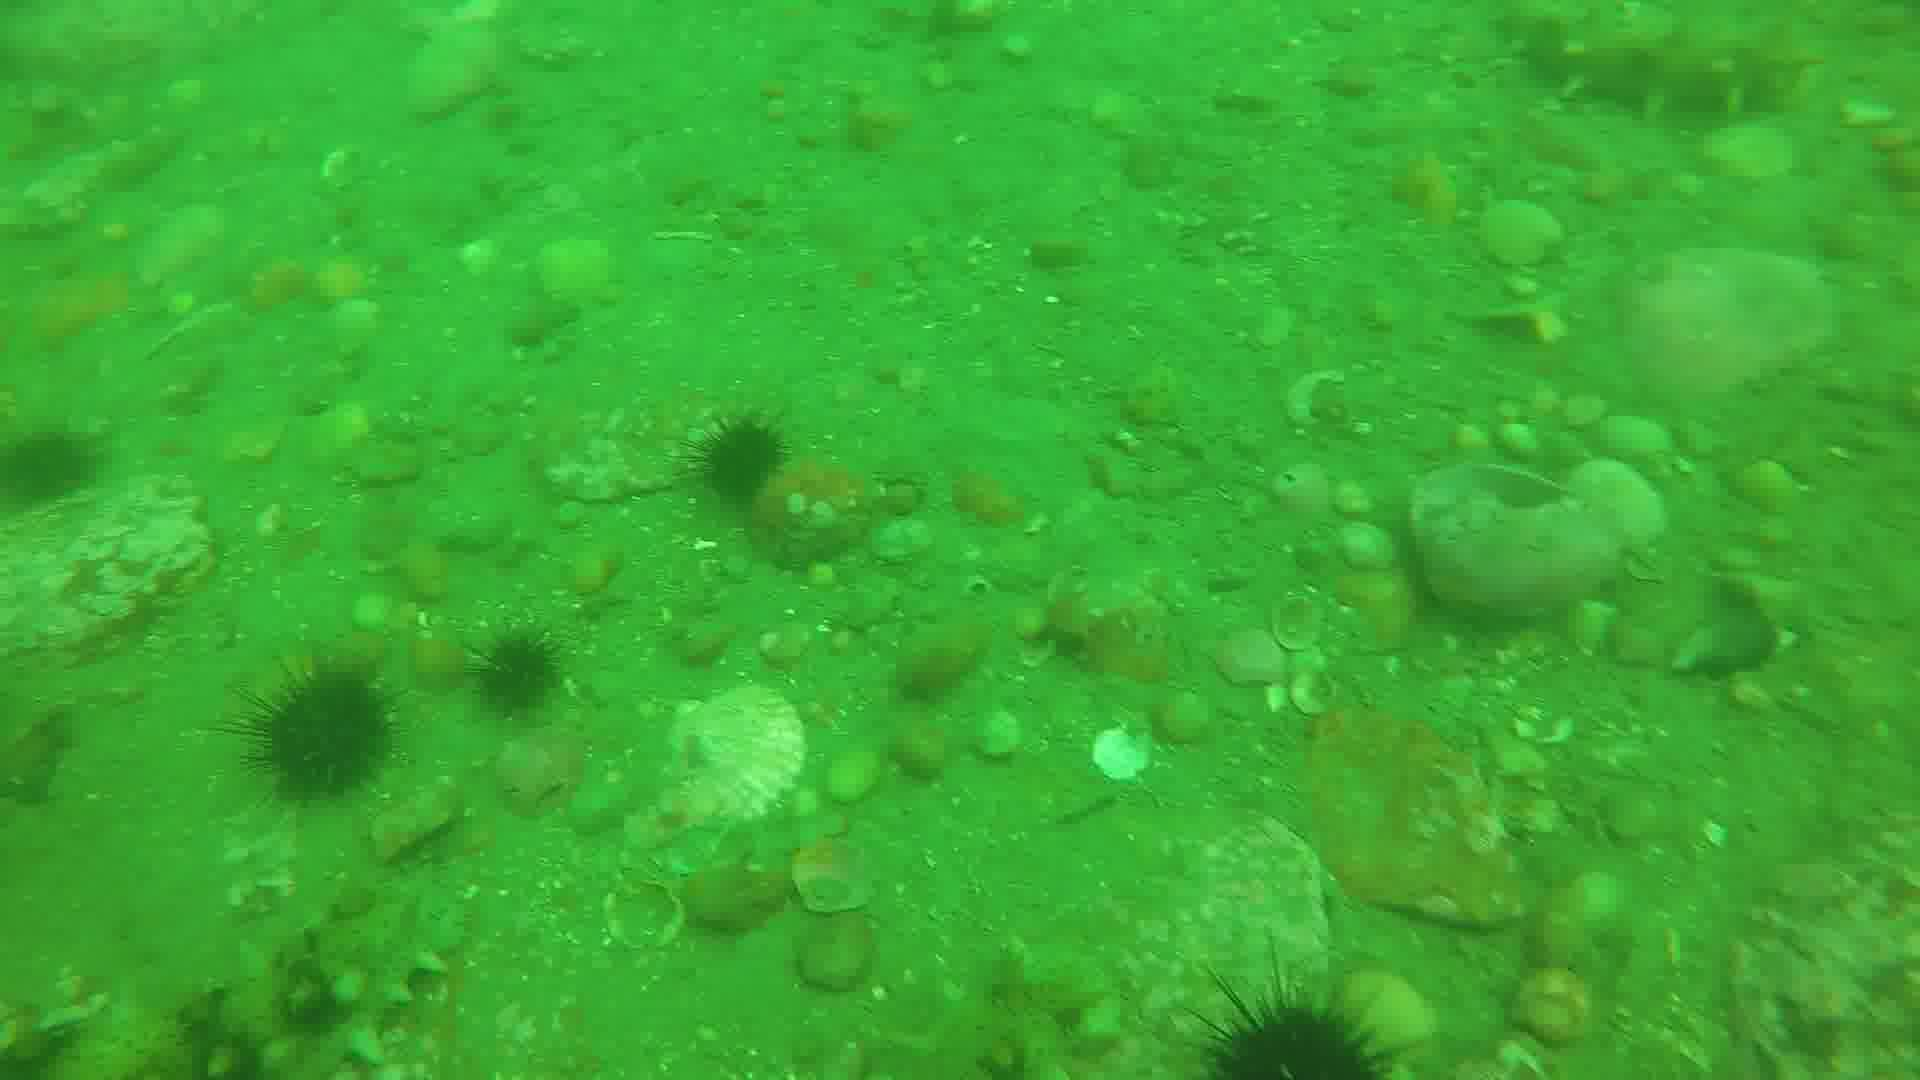echinus: (1176, 967, 1396, 1080), (247, 662, 400, 794), (1, 407, 107, 504), (698, 411, 791, 504), (469, 626, 562, 707)
holothurian: (1, 876, 469, 1080)
scallop: (662, 690, 807, 825), (1269, 589, 1345, 719), (1505, 967, 1600, 1056), (786, 824, 872, 920), (588, 874, 687, 957), (1473, 195, 1565, 270), (1089, 716, 1160, 789)
